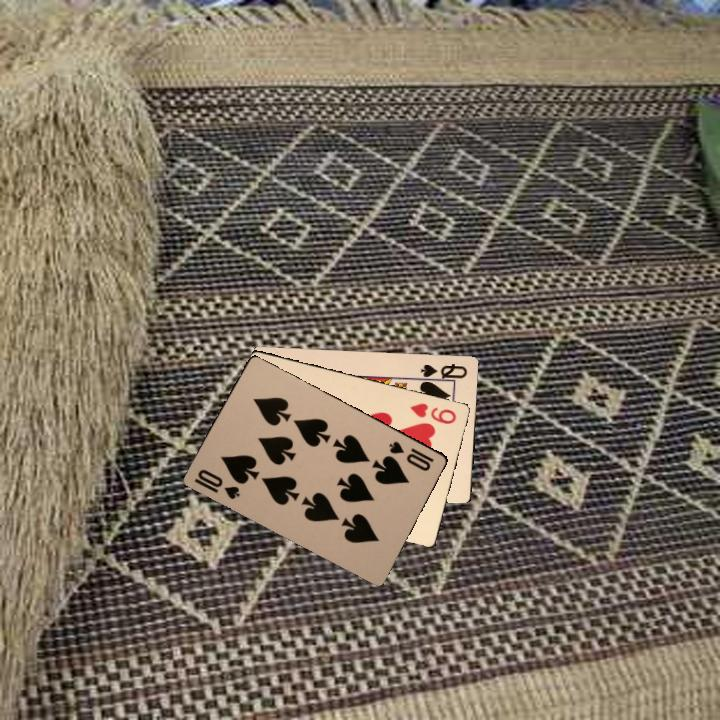10s: (190, 464, 242, 502), (385, 437, 437, 474)
9h: (406, 399, 459, 427)
Qs: (415, 360, 469, 384)
